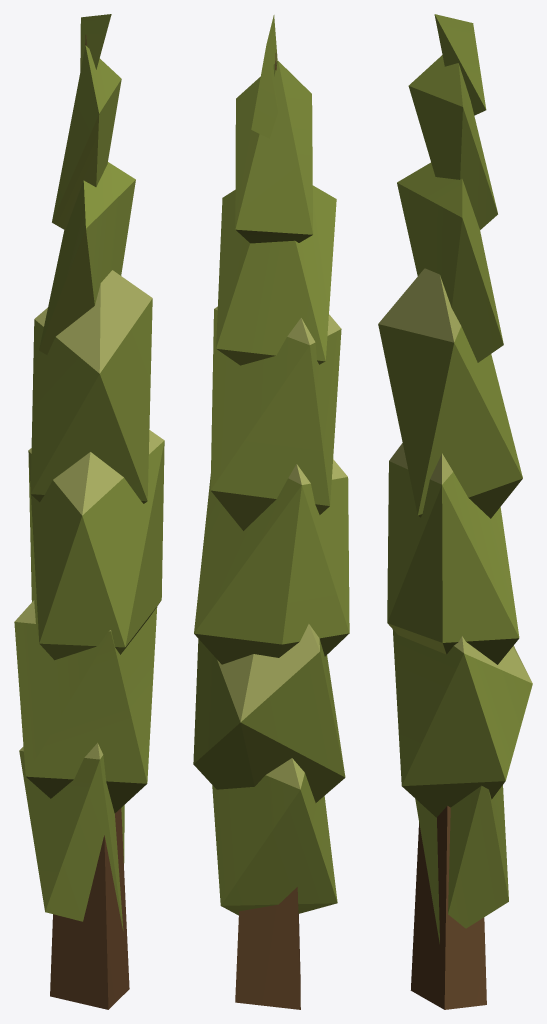
3 renders of one model, left to right at view 1: azimuth 30°, elevation 25°; view 2: azimuth 150°, elevation 25°; view 3: azimuth 270°, elevation 25°, orthographic.
Visible parts, largest first — view 1: WK_Tree_Cypress_GoldenColumnar_LOD2_Compact; view 2: WK_Tree_Cypress_GoldenColumnar_LOD2_Compact; view 3: WK_Tree_Cypress_GoldenColumnar_LOD2_Compact.
Boxes of the visible parts, x1,y1,x2,y2 form: WK_Tree_Cypress_GoldenColumnar_LOD2_Compact: [14, 14, 164, 1009]; WK_Tree_Cypress_GoldenColumnar_LOD2_Compact: [193, 15, 349, 1009]; WK_Tree_Cypress_GoldenColumnar_LOD2_Compact: [378, 14, 532, 1009].
Bounding box in the file's own units: 1.18 × 7.91 × 1.13.
